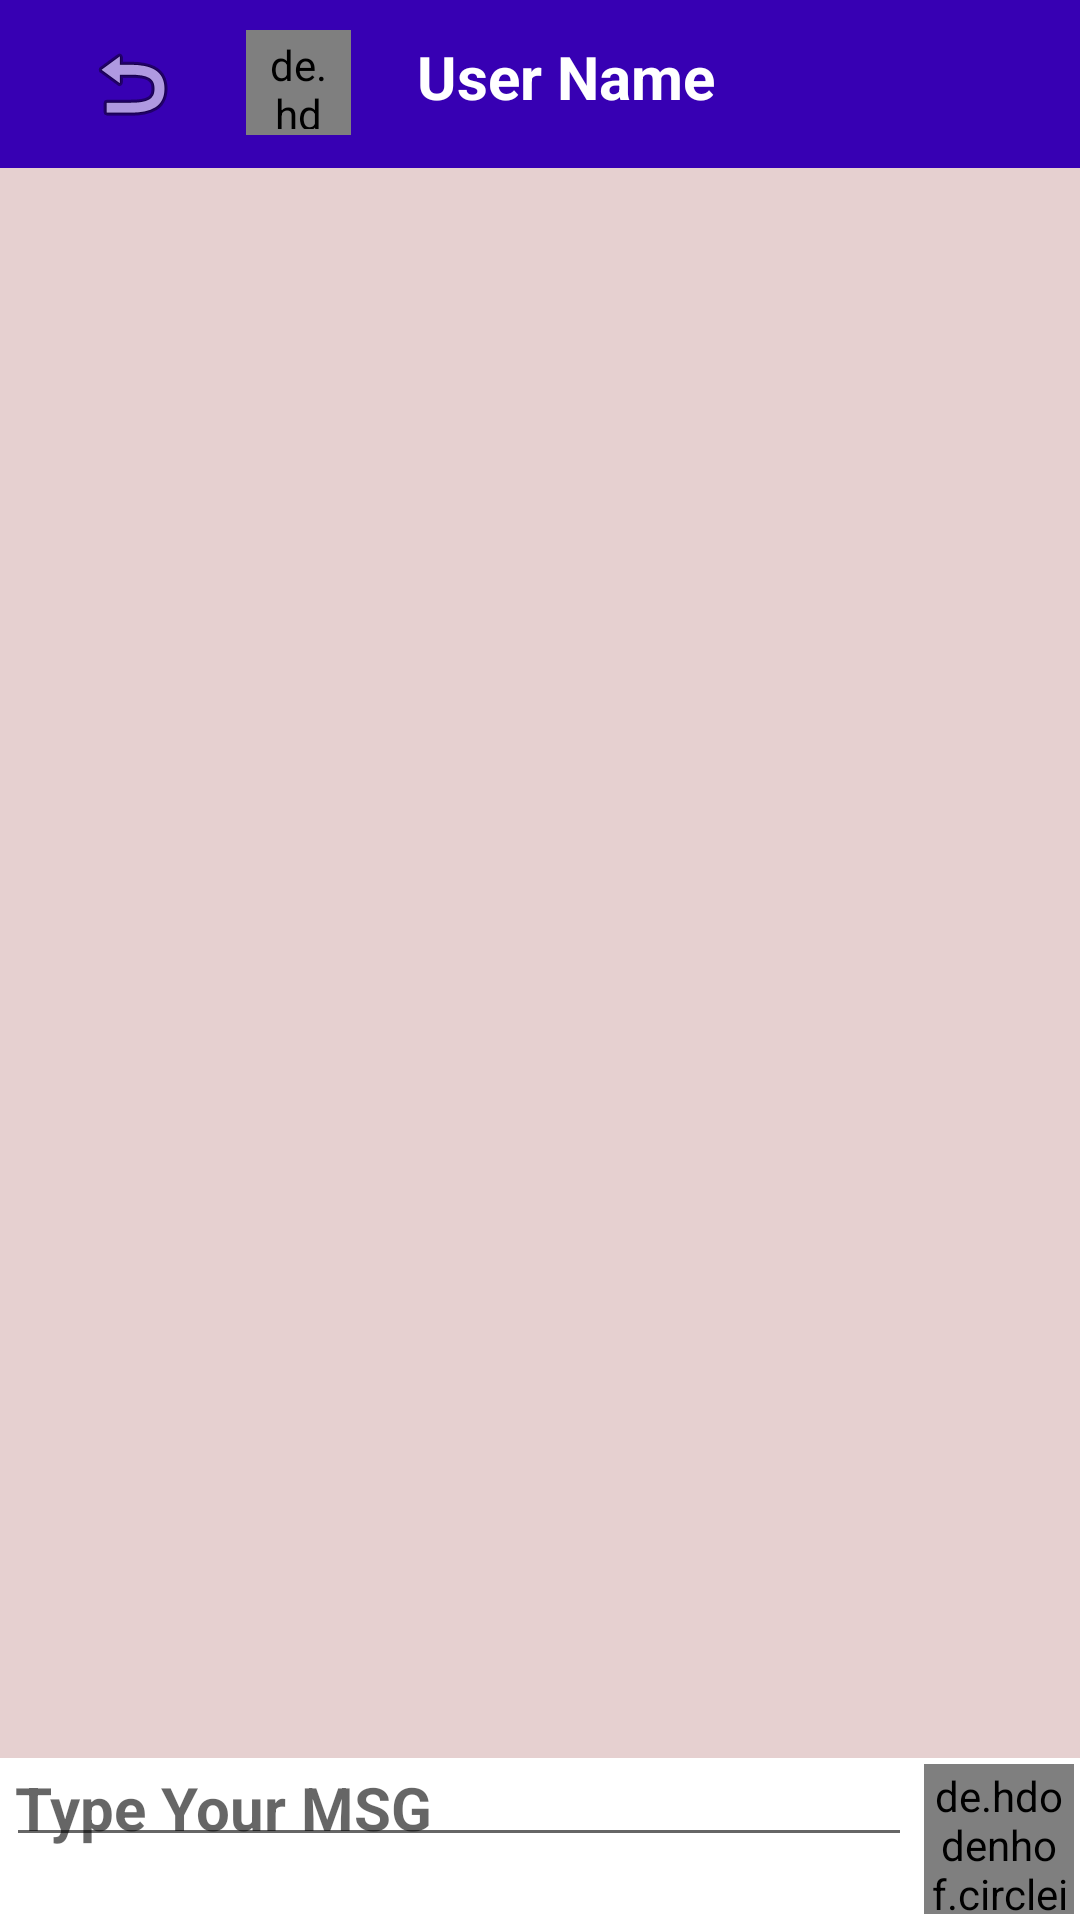

Where to tap for icons on this 1080 × 1920 app screen, as (x,y):
revert: (133,84)
